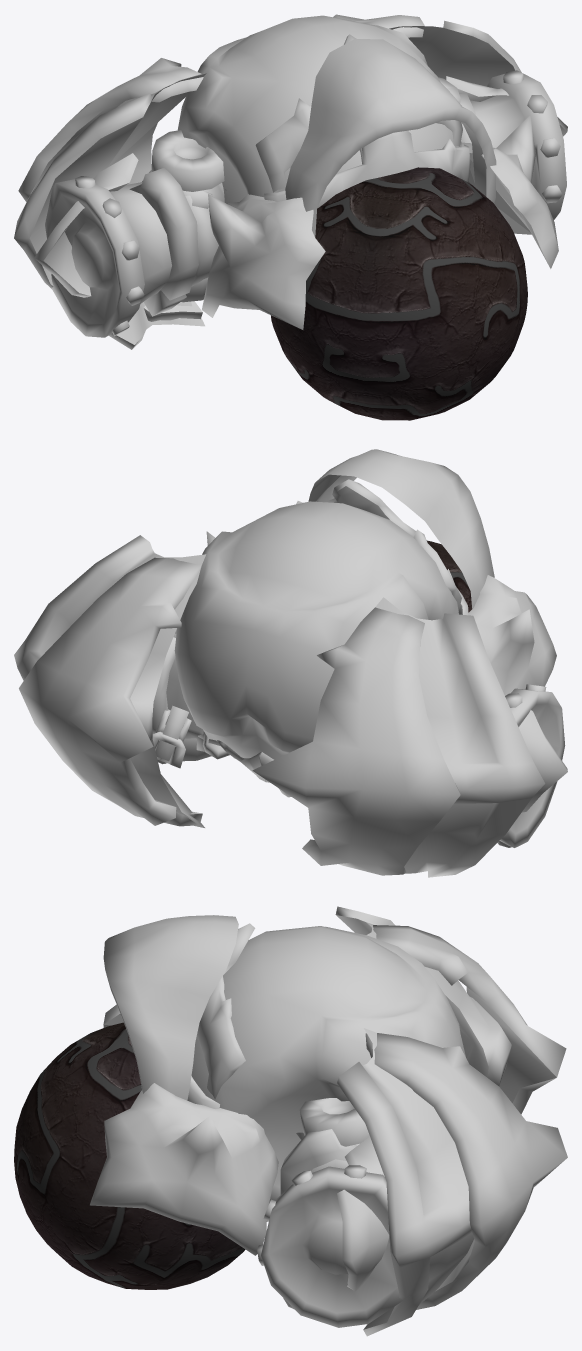
The model's file is Born (7).obj.
3 views of the same model, one above another, from view 1: azimuth 30°, elevation 25°; view 2: azimuth 150°, elevation 25°; view 3: azimuth 270°, elevation 25° (orthographic). The views are drawn at different scales.
Parts seen in each view (by area): view 1: ironreaver01; view 2: ironreaver01; view 3: ironreaver01.
Part boxes in pixels (<box>): ironreaver01: <box>14,14,567,420</box>; ironreaver01: <box>14,449,567,877</box>; ironreaver01: <box>14,906,567,1336</box>.
Size of the model in its own units: 1.55 by 0.9442 by 1.33.
